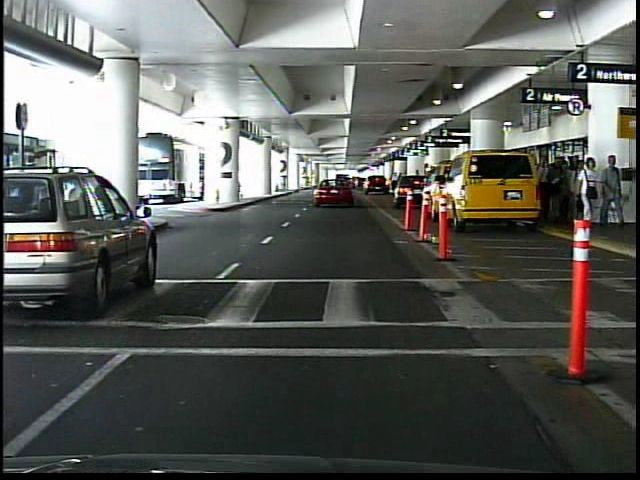person: (597, 154, 625, 226), (575, 154, 596, 228)
